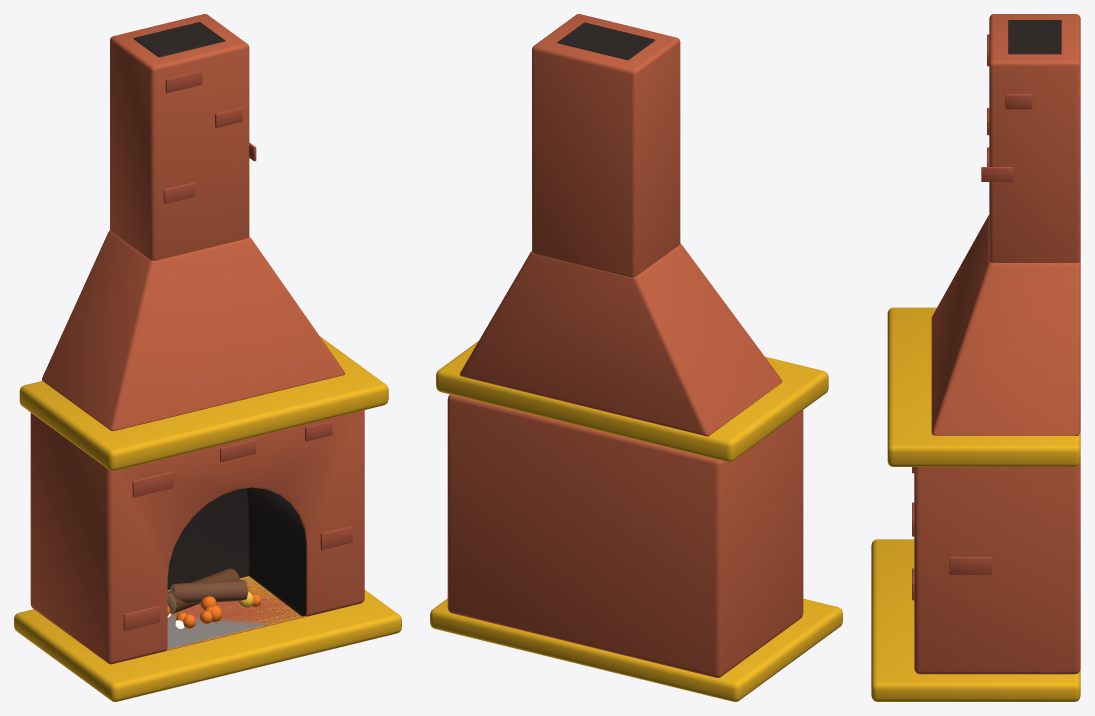
File: lareira_tijolo_chamine.glb
The picture shows the model from 3 angles, left to right: view 1: azimuth 30°, elevation 25°; view 2: azimuth 150°, elevation 25°; view 3: azimuth 270°, elevation 25°; orthographic projection. The views are drawn at different scales.
Parts seen in each view (by area): view 1: lareira_tijolo_chamine; view 2: lareira_tijolo_chamine; view 3: lareira_tijolo_chamine.
Part boxes in pixels (x1,y1,x2,y2): lareira_tijolo_chamine: (14,14,401,701); lareira_tijolo_chamine: (430,14,842,701); lareira_tijolo_chamine: (871,14,1080,701).
Bounding box in the file's own units: 1.3 × 2.44 × 0.78.
2 materials, 1 textured.
